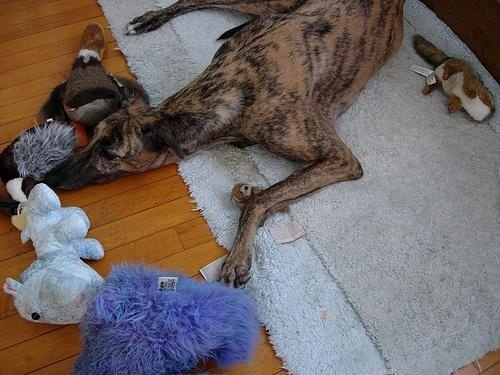dog: (44, 1, 408, 291)
